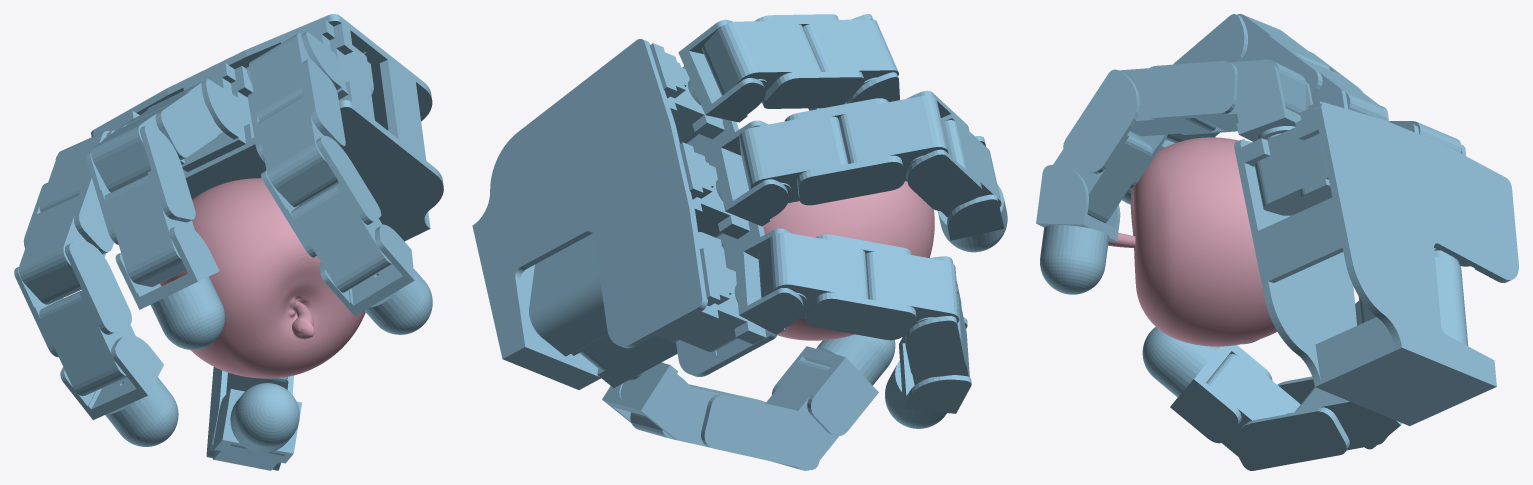
3 renders of one model, left to right at view 1: azimuth 30°, elevation 25°; view 2: azimuth 150°, elevation 25°; view 3: azimuth 270°, elevation 25°, orthographic. The views are drawn at different scales.
Parts seen in each view (by area): view 1: world, apple.stl; view 2: world, apple.stl; view 3: world, apple.stl.
Part boxes in pixels (bbox=[...]): world: bbox=[14, 14, 443, 470]; apple.stl: bbox=[160, 178, 365, 378]; world: bbox=[472, 14, 1007, 470]; apple.stl: bbox=[763, 181, 934, 340]; world: bbox=[1036, 14, 1518, 470]; apple.stl: bbox=[1108, 137, 1277, 346].
Bounding box in the file's own units: 0.1852 × 0.1713 × 0.1762.
